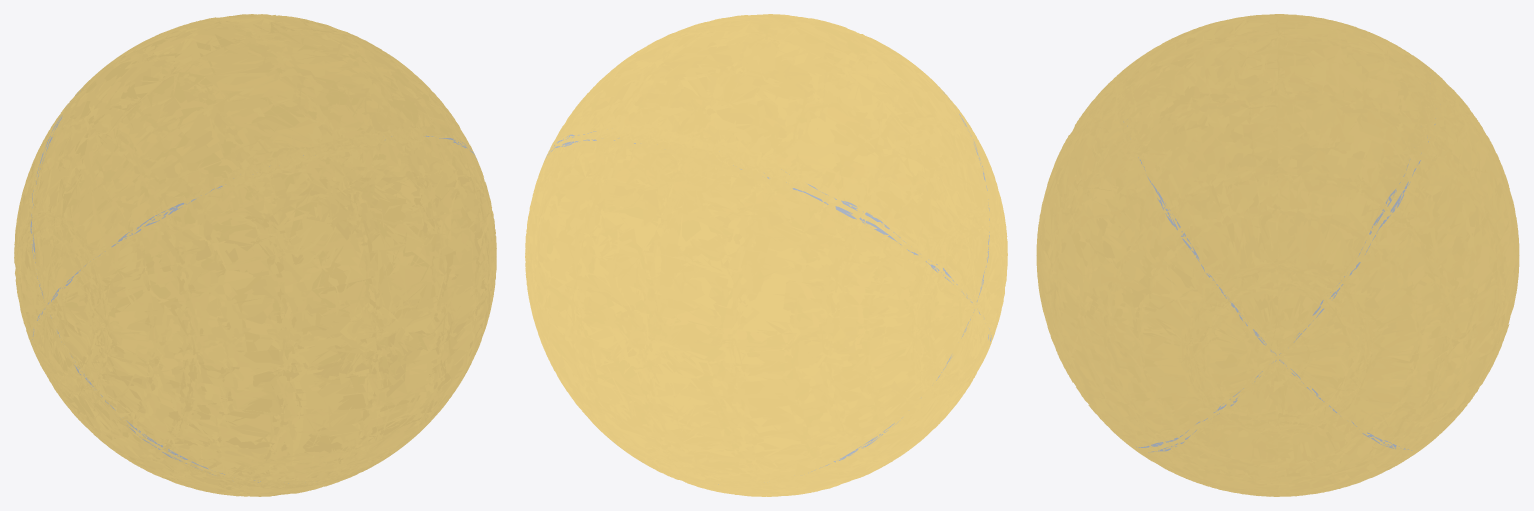
File: dg-north-A.glb
3 views of the same model, side by side, from view 1: azimuth 30°, elevation 25°; view 2: azimuth 150°, elevation 25°; view 3: azimuth 270°, elevation 25° (orthographic).
Visible parts, largest first — view 1: anodes, structure; view 2: anodes, structure; view 3: anodes, structure.
Part boxes in pixels (x1,y1,x2,y2): anodes: [14, 14, 496, 496]; structure: [30, 88, 477, 483]; anodes: [525, 14, 1007, 496]; structure: [546, 87, 991, 484]; anodes: [1036, 14, 1519, 496]; structure: [1123, 118, 1435, 452].
Size of the model in its own units: 2 by 2 by 2.
